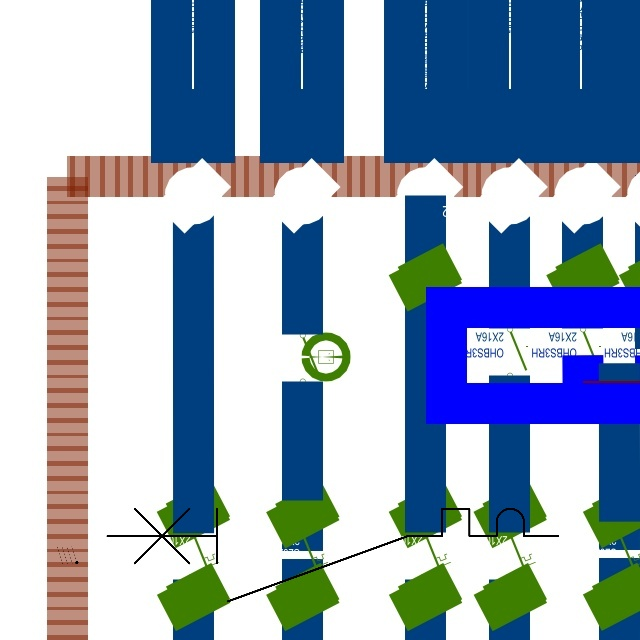interruptor_termomagnetico: (95, 497, 569, 613)
